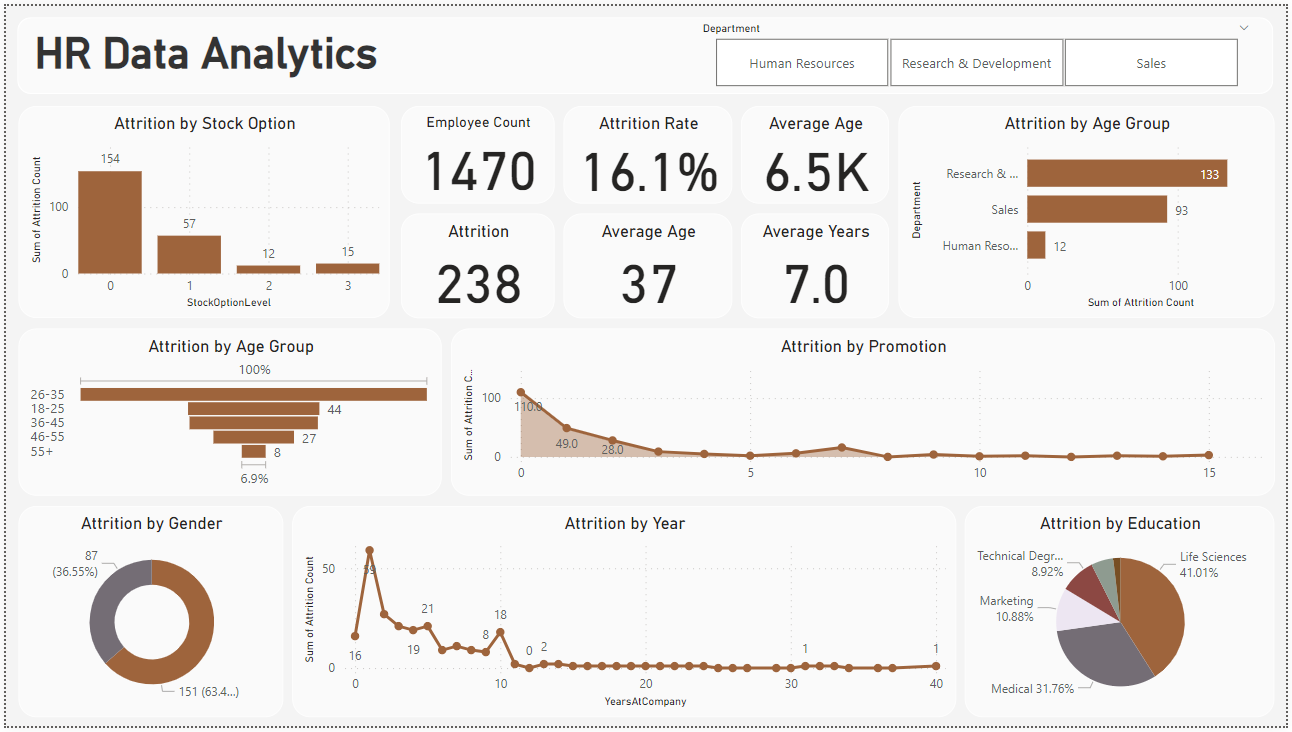

Layout of this report page (visuals, bound fields, positions):
{"tool":"powerbi","page":{"name":"Attrition","canvas":[1280,720],"ordinal":0},"visuals":[{"type":"shape","box":[11.5,11.5,1256,76.7],"z":0},{"type":"card","title":"Employee Count","fields":{"Values":["Count(Human Resource Dataset.EmpID)"]},"box":[395.2,99.8,153.5,97.2],"z":0,"group":"g1"},{"type":"card","title":"Attrition","fields":{"Values":["Sum(Human Resource Dataset.Attrition Count)"]},"box":[395.2,207.2,153.5,104.9],"z":1000,"group":"g1"},{"type":"pieChart","title":"Attrition by Education","fields":{"Y":["CountNonNull(Human Resource Dataset.Attrition)"],"Category":["Human Resource Dataset.EducationField"]},"box":[959.2,500.1,309.5,211],"z":1000},{"type":"card","title":"Attrition Rate","fields":{"Values":["_Measure.Attrition Rate"]},"box":[557.6,99.8,168.8,97.2],"z":2000,"group":"g1"},{"type":"funnel","title":"Attrition by Age Group","fields":{"Category":["Human Resource Dataset.AgeGroup"],"Y":["Sum(Human Resource Dataset.Attrition Count)"]},"box":[12.8,322.3,423.3,167.5],"z":2000},{"type":"card","title":"Average Age","fields":{"Values":["Avg(Human Resource Dataset.Age)"]},"box":[557.6,207.2,168.8,104.9],"z":3000,"group":"g1"},{"type":"stackedAreaChart","title":"Attrition by Promotion","fields":{"Category":["Human Resource Dataset.YearsSinceLastPromotion"],"Y":["Sum(Human Resource Dataset.Attrition Count)"]},"box":[445.1,322.3,823.7,167.5],"z":3000},{"type":"card","title":"Average Age","fields":{"Values":["Avg(Human Resource Dataset.MonthlyIncome)"]},"box":[735.4,99.8,148.4,97.2],"z":4000,"group":"g1"},{"type":"donutChart","title":"Attrition by Gender","fields":{"Category":["Human Resource Dataset.Gender"],"Y":["Sum(Human Resource Dataset.Attrition Count)"]},"box":[12.8,500.1,264.7,211],"z":4000},{"type":"card","title":"Average Years","fields":{"Values":["Avg(Human Resource Dataset.YearsAtCompany)"]},"box":[735.4,207.2,148.4,104.9],"z":5000,"group":"g1"},{"type":"lineChart","title":"Attrition by Year","fields":{"Category":["Human Resource Dataset.YearsAtCompany"],"Y":["Sum(Human Resource Dataset.Attrition Count)"]},"box":[286.5,500.1,663.8,211],"z":5000},{"type":"group","id":"g1","title":"Group 1","box":[395.2,99.8,488.6,212.3],"z":6000},{"type":"clusteredColumnChart","title":"Attrition by Stock Option","fields":{"Category":["Human Resource Dataset.StockOptionLevel"],"Y":["Sum(Human Resource Dataset.Attrition Count)"]},"box":[12.8,99.8,370.9,212.3],"z":7000},{"type":"clusteredBarChart","title":"Attrition by Age Group","fields":{"Category":["Human Resource Dataset.Department"],"Y":["Sum(Human Resource Dataset.Attrition Count)"]},"box":[892.7,99.8,376,212.3],"z":8000},{"type":"textbox","box":[23.2,17.4,450.2,63.9],"z":9000,"group":"g2"},{"type":"slicer","title":"Attrition by Stock Option","fields":{"Values":["Human Resource Dataset.Department"]},"box":[682.9,11,571.9,75.5],"z":10000,"group":"g2"},{"type":"group","id":"g2","title":"Group 2","box":[23.2,11,1232.2,75.8],"z":10001}]}

Visuals, with their boxes in screenshot pixels (x1, y1, x2, y2), scaled from the page's 1280x720 canvas onto the 1292x732 screenshot:
shape: x1=12, y1=12, x2=1279, y2=90
"Employee Count" card: x1=399, y1=101, x2=554, y2=200
"Attrition" card: x1=399, y1=211, x2=554, y2=317
"Attrition by Education" pieChart: x1=968, y1=508, x2=1281, y2=723
"Attrition Rate" card: x1=563, y1=101, x2=733, y2=200
"Attrition by Age Group" funnel: x1=13, y1=328, x2=440, y2=498
"Average Age" card: x1=563, y1=211, x2=733, y2=317
"Attrition by Promotion" stackedAreaChart: x1=449, y1=328, x2=1281, y2=498
"Average Age" card: x1=742, y1=101, x2=892, y2=200
"Attrition by Gender" donutChart: x1=13, y1=508, x2=280, y2=723
"Average Years" card: x1=742, y1=211, x2=892, y2=317
"Attrition by Year" lineChart: x1=289, y1=508, x2=959, y2=723
"Group 1" group: x1=399, y1=101, x2=892, y2=317
"Attrition by Stock Option" clusteredColumnChart: x1=13, y1=101, x2=387, y2=317
"Attrition by Age Group" clusteredBarChart: x1=901, y1=101, x2=1281, y2=317
textbox: x1=23, y1=18, x2=478, y2=83
"Attrition by Stock Option" slicer: x1=689, y1=11, x2=1267, y2=88
"Group 2" group: x1=23, y1=11, x2=1267, y2=88
